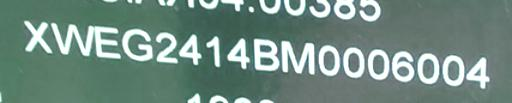letter: (50, 20, 94, 59), (278, 38, 316, 77), (20, 18, 54, 55), (120, 26, 154, 61), (94, 25, 122, 62), (252, 36, 280, 73), (154, 29, 180, 66), (365, 47, 391, 84), (226, 35, 252, 70), (389, 47, 415, 82), (440, 52, 466, 87), (465, 55, 491, 90), (178, 32, 204, 65), (416, 51, 440, 86), (318, 43, 340, 80), (342, 45, 364, 80), (204, 34, 224, 69)
